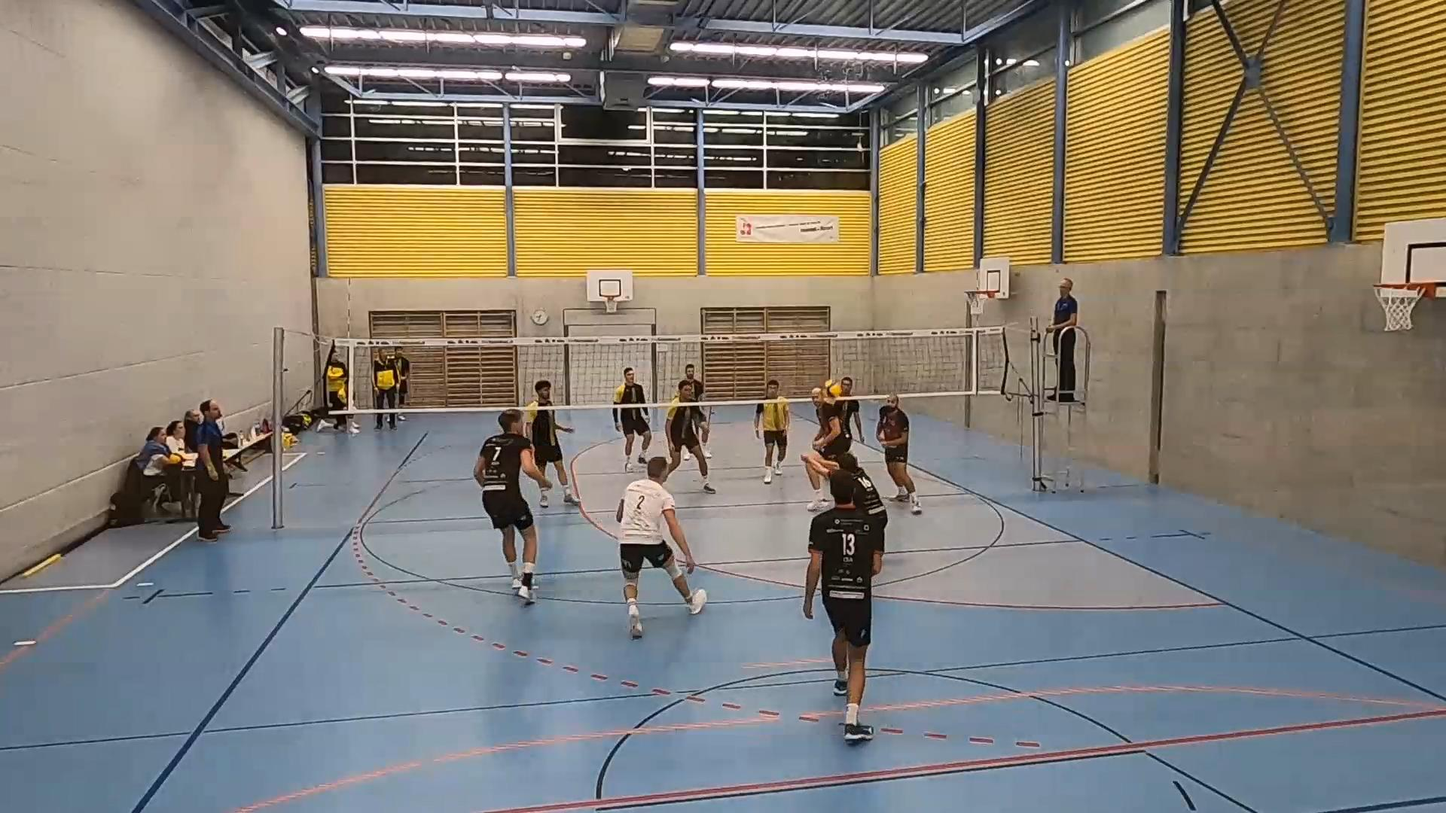difesa: (796, 450, 891, 569)
